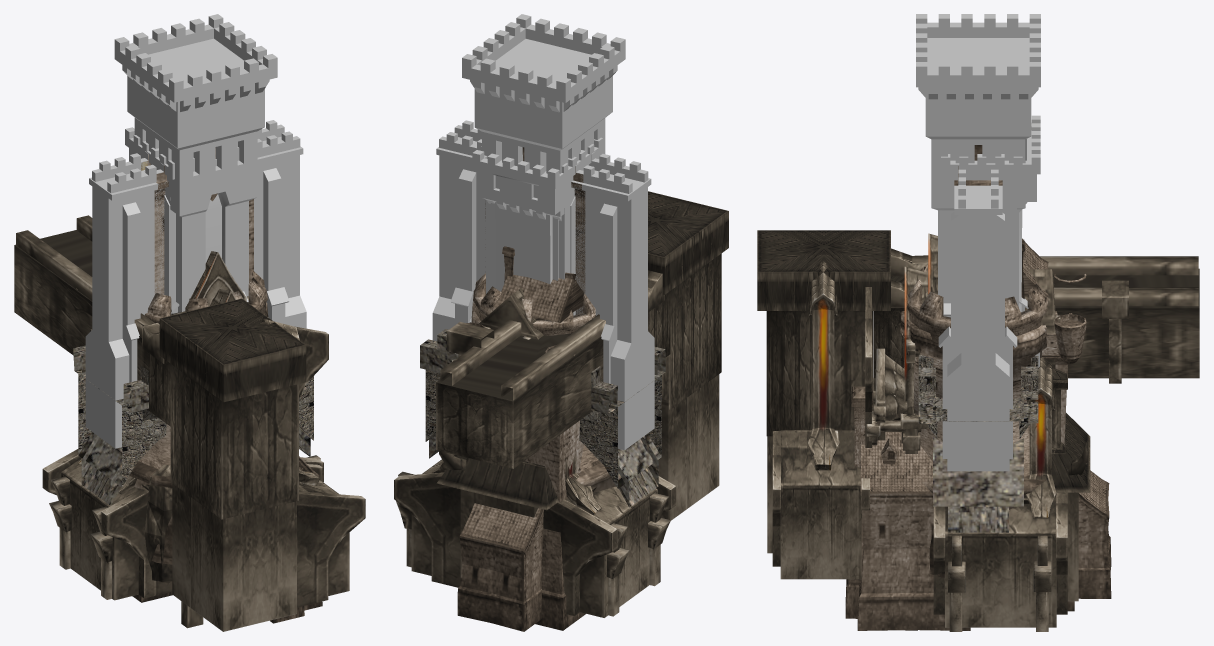
The model's file is Jianzu_ChenBao.fbx.
3 views of the same model, side by side, from view 1: azimuth 30°, elevation 25°; view 2: azimuth 150°, elevation 25°; view 3: azimuth 270°, elevation 25° (orthographic). The views are drawn at different scales.
Parts seen in each view (by area): view 1: ChengBao01, ChengBao10, ChengBao07, ChengBao00, ChengBao12, ChengBao06, ChengBao09, ChengBao08, ChengBao04, ChengBao05; view 2: ChengBao01, ChengBao00, ChengBao07, ChengBao10, ChengBao05, ChengBao08, ChengBao12, ChengBao06, ChengBao09; view 3: ChengBao01, ChengBao00, ChengBao05, ChengBao10, ChengBao07, ChengBao12, ChengBao06, ChengBao08, ChengBao04.
Part boxes in pixels (x1,y1,x2,y2): ChengBao01: [14, 215, 365, 631]; ChengBao10: [114, 14, 277, 314]; ChengBao07: [85, 120, 306, 448]; ChengBao00: [42, 251, 323, 600]; ChengBao12: [73, 329, 313, 505]; ChengBao06: [129, 269, 268, 564]; ChengBao09: [141, 154, 253, 294]; ChengBao08: [125, 127, 239, 200]; ChengBao04: [181, 289, 236, 628]; ChengBao05: [76, 288, 322, 623]; ChengBao01: [436, 191, 728, 520]; ChengBao00: [394, 287, 676, 617]; ChengBao07: [432, 120, 654, 450]; ChengBao10: [462, 14, 625, 287]; ChengBao05: [457, 246, 585, 631]; ChengBao08: [472, 137, 602, 293]; ChengBao12: [420, 329, 665, 507]; ChengBao06: [471, 273, 615, 492]; ChengBao09: [485, 166, 585, 314]; ChengBao01: [757, 230, 1199, 579]; ChengBao00: [866, 233, 1090, 631]; ChengBao05: [845, 238, 1111, 630]; ChengBao10: [916, 14, 1040, 317]; ChengBao07: [938, 165, 1017, 471]; ChengBao12: [918, 354, 1038, 532]; ChengBao06: [900, 264, 1057, 577]; ChengBao08: [941, 115, 1040, 367]; ChengBao04: [900, 266, 929, 630].
Size of the model in its own units: 45.31 by 105 by 74.03.
